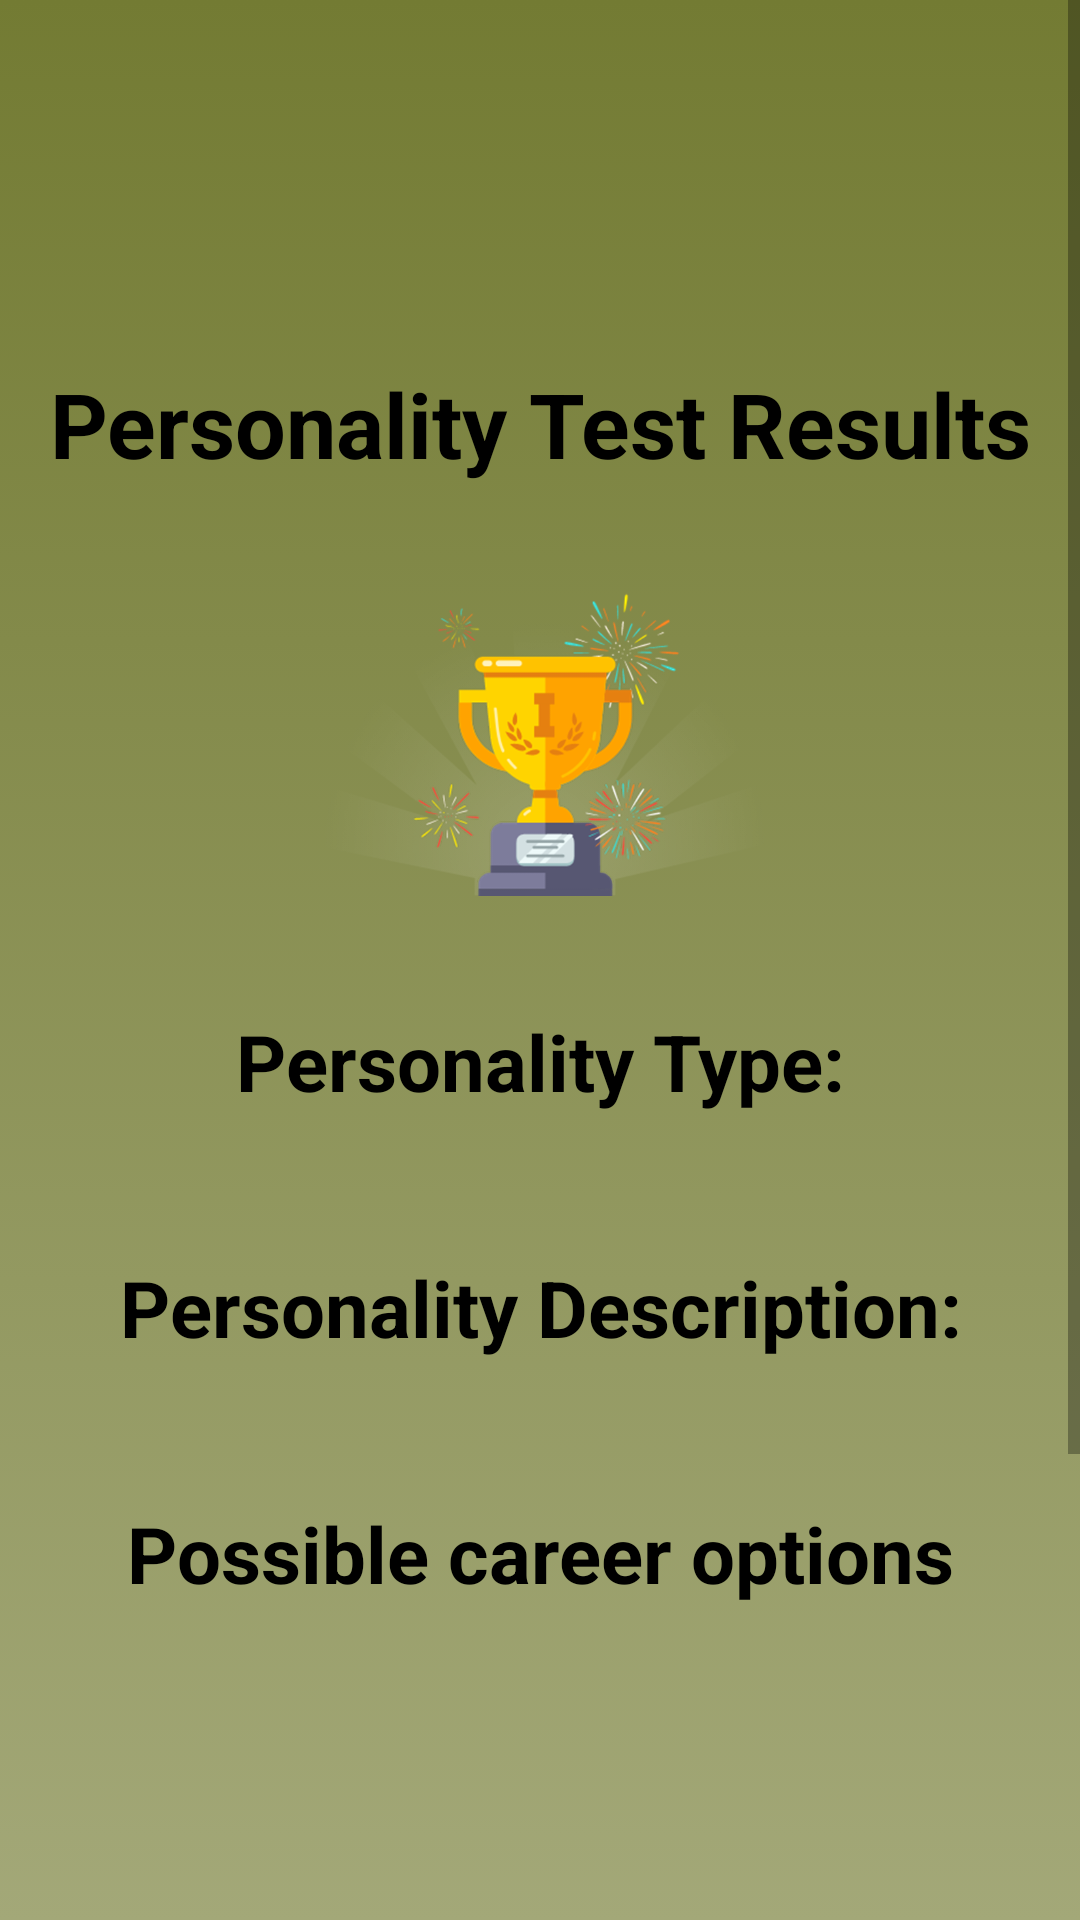

Screen size 1080px×1920px. Icon name, then its center in pixels as [x,y]:
trophy: [546,745]
